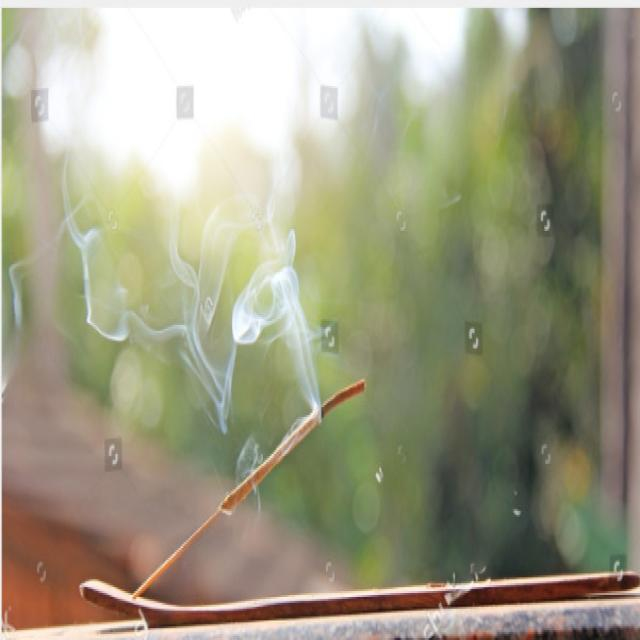Agarbatti: (126, 369, 368, 596)
